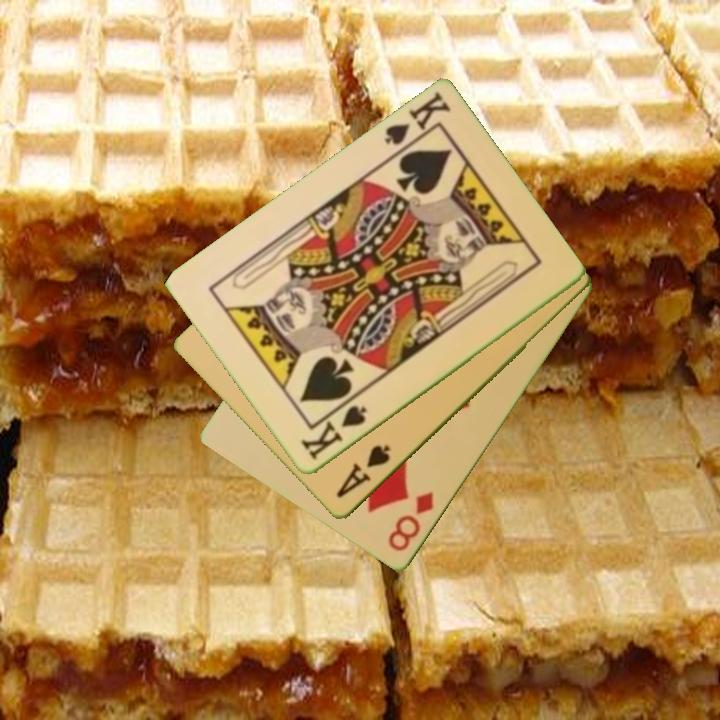8d: (384, 488, 437, 555)
As: (333, 442, 393, 502)
Ks: (380, 88, 454, 160), (297, 402, 370, 465)
